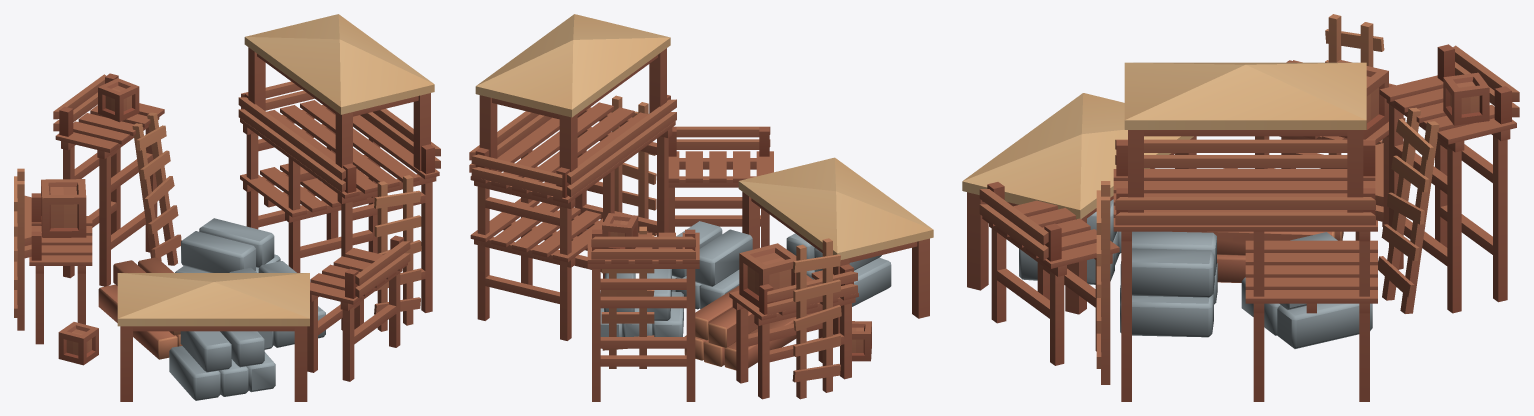
File: scaffolding.glb
3 views of the same model, side by side, from view 1: azimuth 30°, elevation 25°; view 2: azimuth 150°, elevation 25°; view 3: azimuth 270°, elevation 25° (orthographic). The views are drawn at different scales.
Parts seen in each view (by area): view 1: scaffolding; view 2: scaffolding; view 3: scaffolding.
Boxes of the visible parts, box(x1,y1,x2,y2) form: scaffolding: box(14, 14, 440, 401); scaffolding: box(469, 14, 933, 401); scaffolding: box(962, 14, 1519, 401).
Bounding box in the file's own units: 0.9502 × 0.6493 × 1.05.
Materials: 1 (1 with a texture image).
